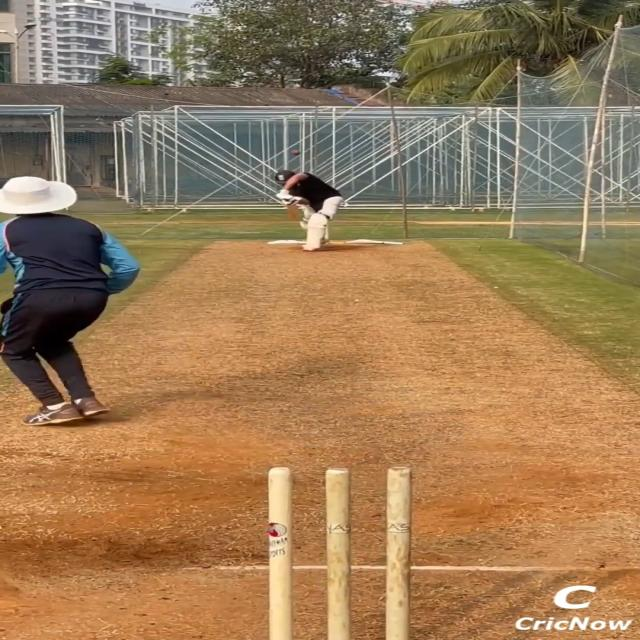ball: (291, 150, 301, 156)
stump: (261, 464, 415, 640)
